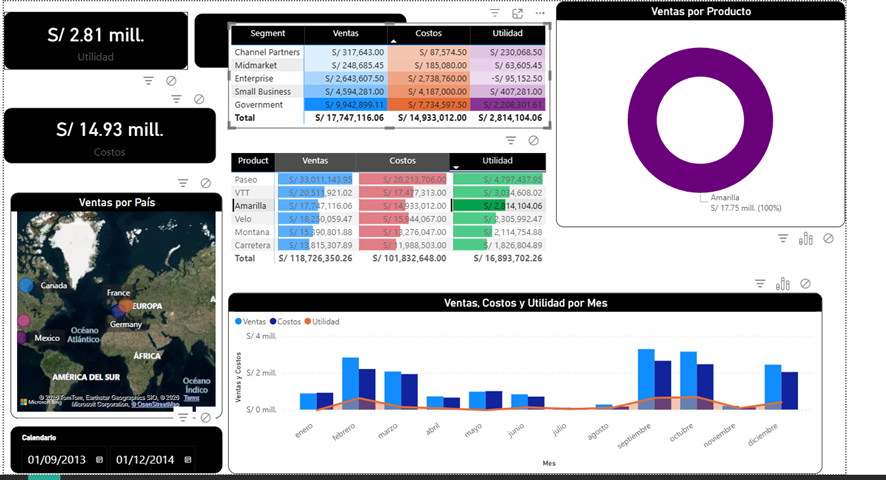

The page's visual inventory and layout, read from the dashboard file:
{"tool":"powerbi","page":{"name":"Página 1","canvas":[1280,720],"ordinal":0},"visuals":[{"type":"donutChart","title":"Ventas por Producto","fields":{"Y":["Sum(financials. Sales)"],"Category":["financials.Product"]},"box":[830,16,440,344],"z":0},{"type":"pivotTable","fields":{"Values":["Sum(financials. Sales)","Sum(financials.COGS)","Sum(financials.Profit)"],"Rows":["financials.Segment"]},"box":[333,13,490,161],"z":1000},{"type":"pivotTable","fields":{"Values":["Sum(financials. Sales)","Sum(financials.COGS)","Sum(financials.Profit)"],"Rows":["financials.Product"]},"box":[333,187,490,183],"z":2000},{"type":"lineClusteredColumnComboChart","fields":{"Y":["Sum(financials. Sales)","Sum(financials.COGS)"],"Category":["financials.Date.Variación.Jerarquía de fechas.Mes"],"Y2":["Sum(financials.Profit)"]},"box":[333,370,937,340],"z":3000},{"type":"card","fields":{"Values":["Sum(financials.COGS)"]},"box":[11,103,314,84],"z":4000},{"type":"map","title":"Ventas por País","fields":{"Category":["financials.Country"],"Series":["financials.Country"],"Size":["Sum(financials. Sales)"]},"box":[10,291.4,312.9,341.4],"z":5000},{"type":"card","fields":{"Values":["Sum(financials.Profit)"]},"box":[11.2,193.8,312.5,87.5],"z":6000},{"type":"card","fields":{"Values":["Sum(financials. Sales)"]},"box":[10,12.5,312.5,82.5],"z":7000},{"type":"slicer","fields":{"Values":["financials.Date"]},"box":[10,644.3,312.9,65.7],"z":8000}]}

Visuals, with their boxes on the page's 1280x720 design canvas (x1, y1, x2, y2). These are canvas units, not pixel positions in the 886x480 screenshot, which may show the page scaled, cropped or inside an application window:
"Ventas por Producto" donutChart: select_region(830, 16, 1270, 360)
pivotTable - Sum(financials. Sales) x Sum(financials.COGS): select_region(333, 13, 823, 174)
pivotTable - Sum(financials. Sales) x Sum(financials.COGS): select_region(333, 187, 823, 370)
lineClusteredColumnComboChart - Sum(financials. Sales) x Sum(financials.COGS): select_region(333, 370, 1270, 710)
card - Sum(financials.COGS): select_region(11, 103, 325, 187)
"Ventas por País" map: select_region(10, 291, 323, 633)
card - Sum(financials.Profit): select_region(11, 194, 324, 281)
card - Sum(financials. Sales): select_region(10, 12, 322, 95)
slicer - financials.Date: select_region(10, 644, 323, 710)
